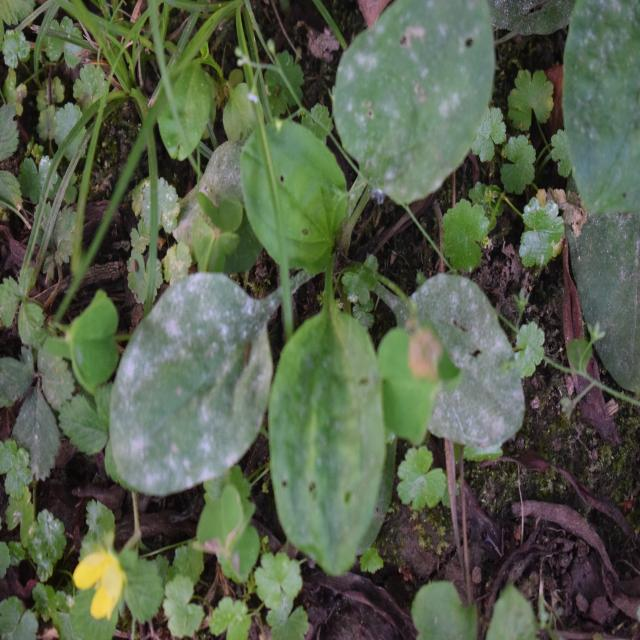plantain: (103, 84, 530, 532)
